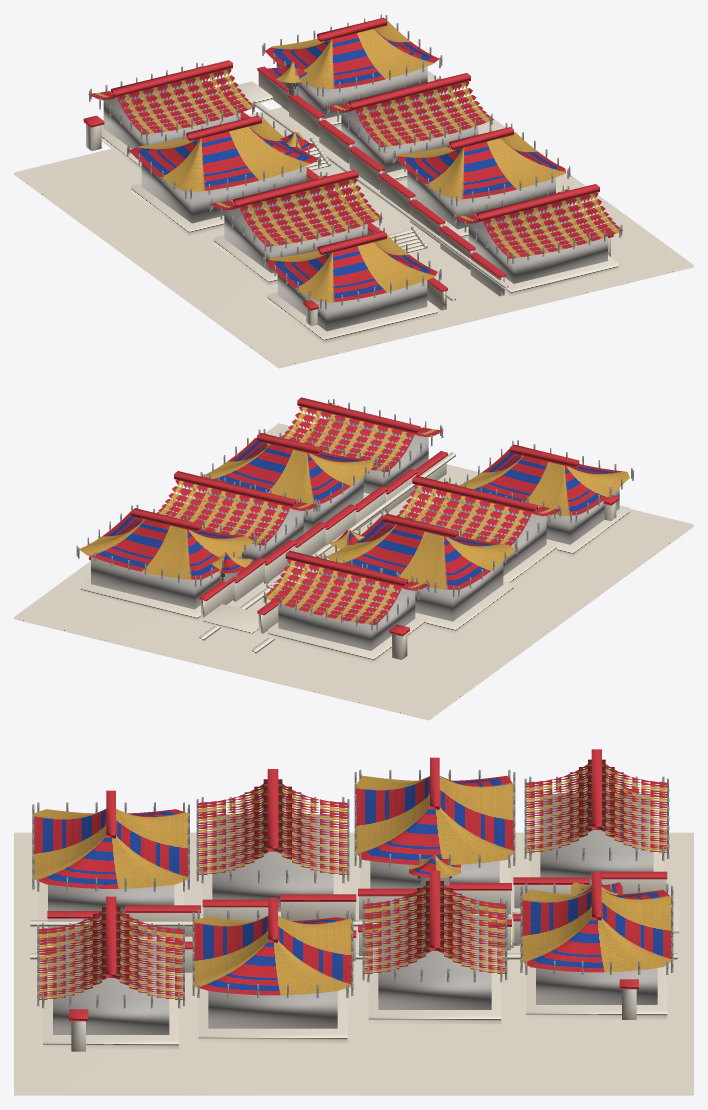
The picture shows the model from 3 angles, top to bottom: view 1: azimuth 30°, elevation 25°; view 2: azimuth 150°, elevation 25°; view 3: azimuth 270°, elevation 25°; orthographic projection. The views are drawn at different scales.
Visible parts, largest first — view 1: gahoe31_rooftop_panorama_roofs, gahoe31_sloped_alley_pavement, gahoe31_wood_columns_and_windows, gahoe31_hanok_plinths, gahoe31_eave_rafters_3d, gahoe31_sagoseok_walls, gahoe31_wall_tile_caps, gahoe31_traditional_chimneys; view 2: gahoe31_rooftop_panorama_roofs, gahoe31_sloped_alley_pavement, gahoe31_wood_columns_and_windows, gahoe31_hanok_plinths, gahoe31_sagoseok_walls, gahoe31_eave_rafters_3d, gahoe31_wall_tile_caps, gahoe31_traditional_chimneys; view 3: gahoe31_rooftop_panorama_roofs, gahoe31_sloped_alley_pavement, gahoe31_wood_columns_and_windows, gahoe31_hanok_plinths, gahoe31_sagoseok_walls, gahoe31_eave_rafters_3d, gahoe31_wall_tile_caps, gahoe31_traditional_chimneys.
Part boxes in pixels (left/top/right/bottom): gahoe31_rooftop_panorama_roofs: left=88, top=17, right=622, bottom=302; gahoe31_sloped_alley_pavement: left=14, top=71, right=693, bottom=368; gahoe31_wood_columns_and_windows: left=103, top=63, right=607, bottom=331; gahoe31_hanok_plinths: left=101, top=115, right=618, bottom=343; gahoe31_eave_rafters_3d: left=89, top=14, right=622, bottom=309; gahoe31_sagoseok_walls: left=258, top=72, right=504, bottom=310; gahoe31_wall_tile_caps: left=202, top=66, right=505, bottom=292; gahoe31_traditional_chimneys: left=83, top=115, right=613, bottom=325; gahoe31_rooftop_panorama_roofs: left=79, top=397, right=629, bottom=624; gahoe31_sloped_alley_pavement: left=14, top=423, right=693, bottom=720; gahoe31_wood_columns_and_windows: left=91, top=418, right=619, bottom=650; gahoe31_hanok_plinths: left=80, top=492, right=629, bottom=663; gahoe31_sagoseok_walls: left=201, top=456, right=446, bottom=633; gahoe31_eave_rafters_3d: left=76, top=399, right=633, bottom=630; gahoe31_wall_tile_caps: left=199, top=451, right=447, bottom=615; gahoe31_traditional_chimneys: left=89, top=423, right=618, bottom=659; gahoe31_rooftop_panorama_roofs: left=33, top=749, right=671, bottom=999; gahoe31_sloped_alley_pavement: left=14, top=832, right=693, bottom=1095; gahoe31_wood_columns_and_windows: left=48, top=794, right=657, bottom=1034; gahoe31_hanok_plinths: left=38, top=826, right=667, bottom=1049; gahoe31_sagoseok_walls: left=48, top=879, right=666, bottom=972; gahoe31_eave_rafters_3d: left=32, top=769, right=673, bottom=1008; gahoe31_wall_tile_caps: left=47, top=871, right=667, bottom=954; gahoe31_traditional_chimneys: left=69, top=788, right=638, bottom=1051.
Size of the model in its own units: 38 by 8.92 by 42.
Materials: 4 (4 with a texture image).
